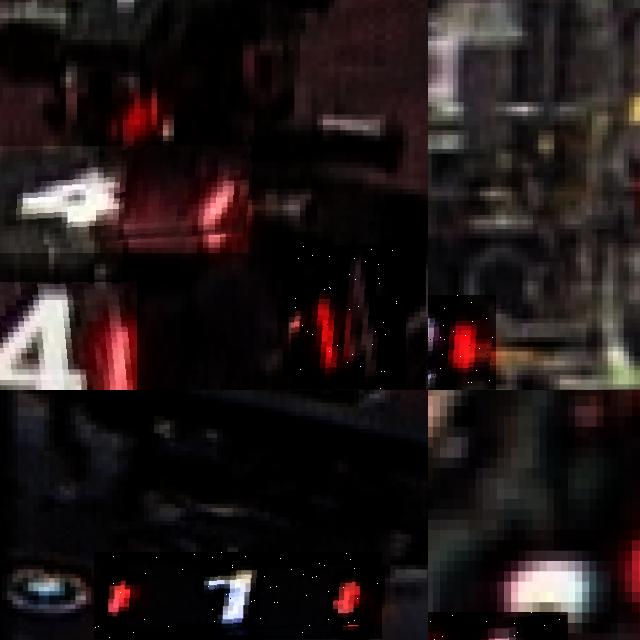R1: (94, 552, 382, 639)
R2: (428, 295, 495, 390)
R4: (0, 146, 251, 252), (291, 245, 406, 389), (0, 282, 137, 390)
